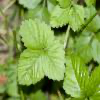Strawberry leaf: (16, 47, 50, 86), (20, 19, 55, 50), (41, 41, 65, 84)
